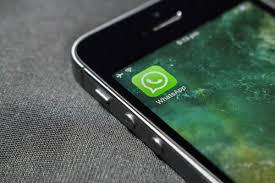Smartphone: (78, 5, 275, 183)
